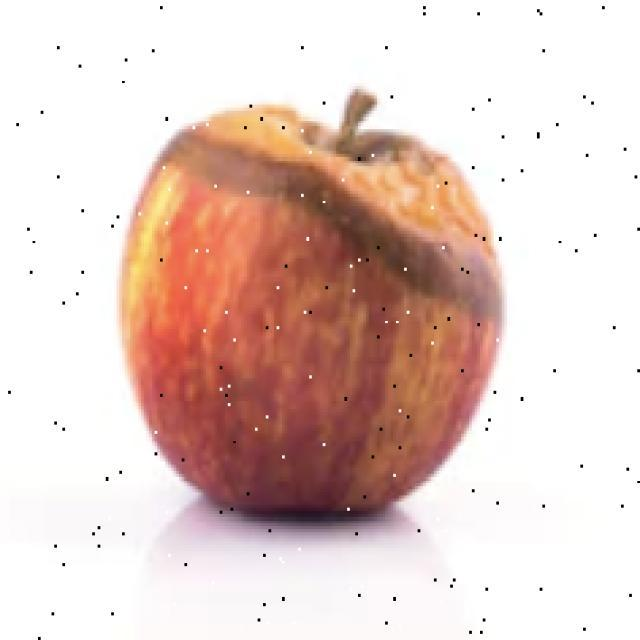Rotten: (127, 112, 505, 538)
